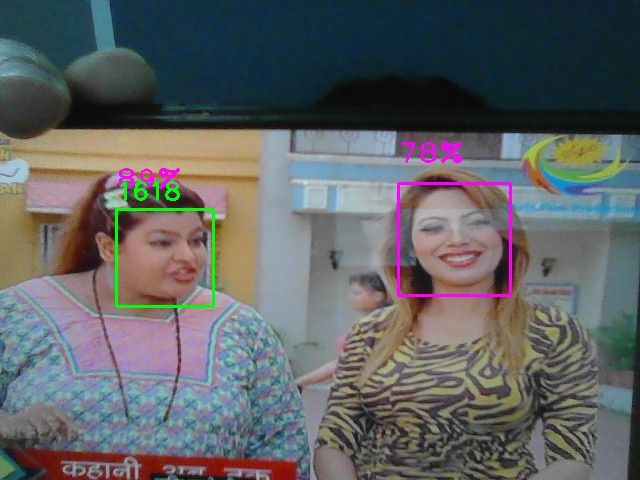fake: (116, 209, 214, 307)
